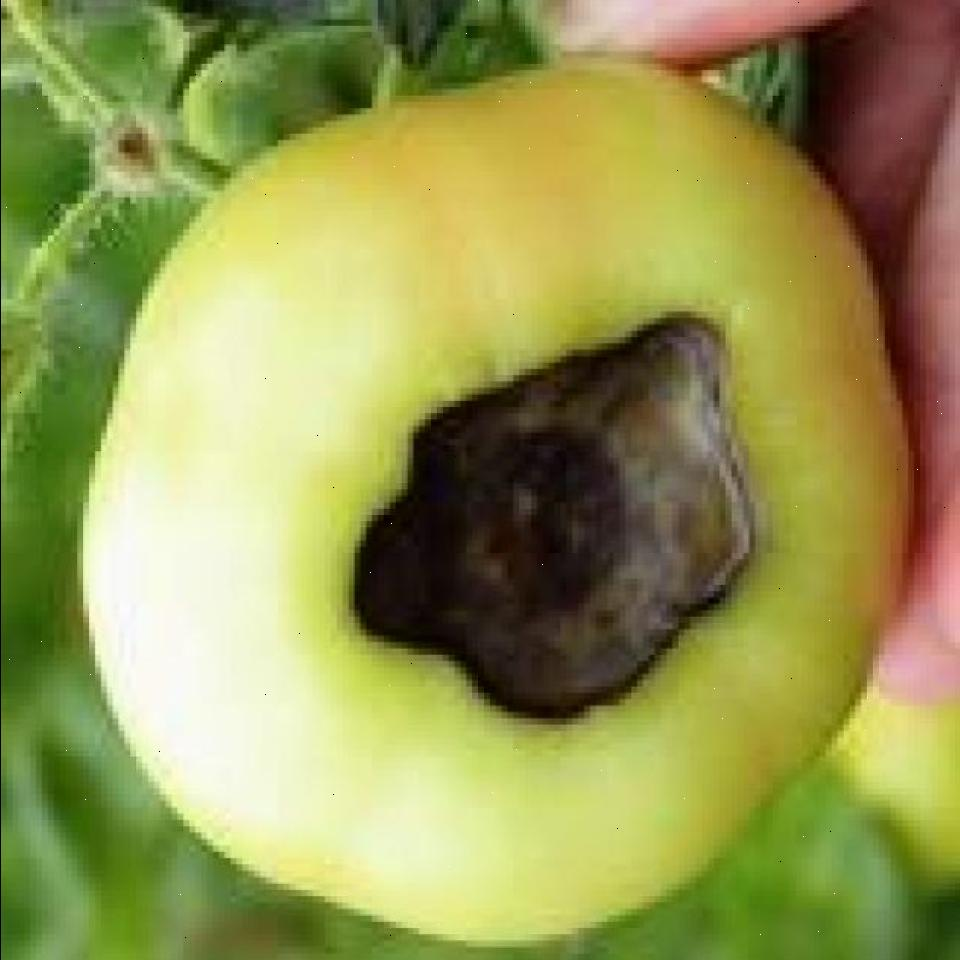Blossom_end_rot: (332, 302, 762, 715)
